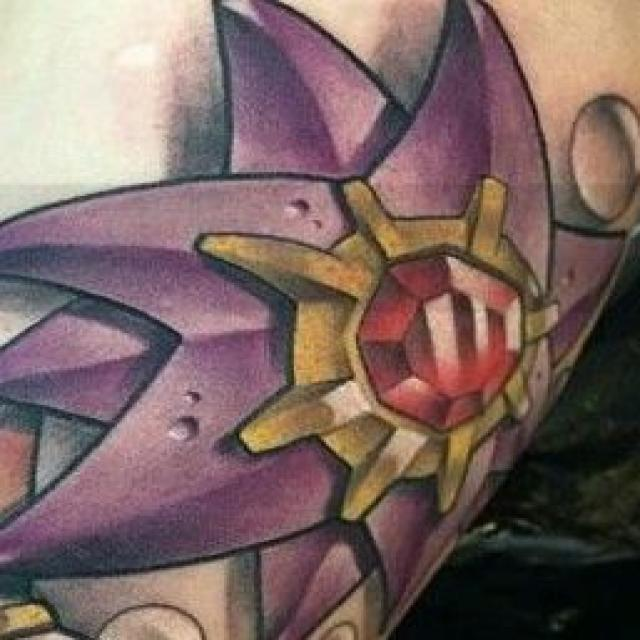Starmie: (0, 11, 640, 607)
